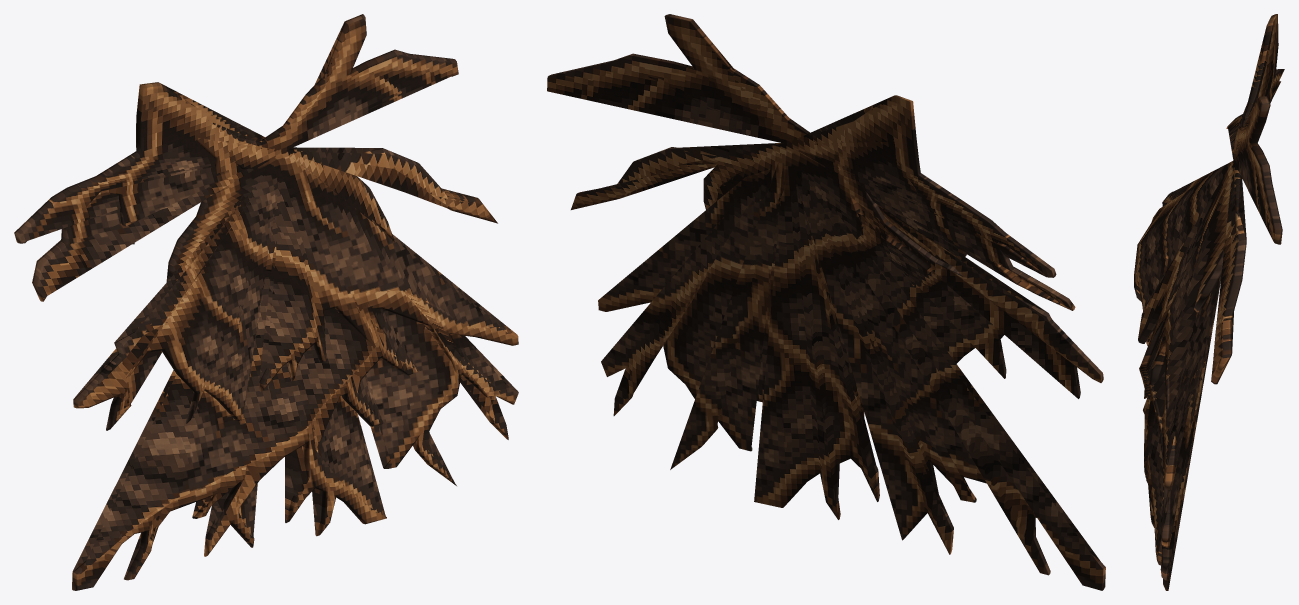
Rendered from Climbing_Root_02.fbx.
3 renders of one model, left to right at view 1: azimuth 30°, elevation 25°; view 2: azimuth 150°, elevation 25°; view 3: azimuth 270°, elevation 25°, orthographic. The views are drawn at different scales.
Parts seen in each view (by area): view 1: Raices_Trepadas_02; view 2: Raices_Trepadas_02; view 3: Raices_Trepadas_02.
Boxes of the visible parts, left/top/right/bottom form: Raices_Trepadas_02: left=14, top=14, right=518, bottom=590; Raices_Trepadas_02: left=547, top=14, right=1105, bottom=590; Raices_Trepadas_02: left=1134, top=14, right=1284, bottom=590.
Size of the model in its own units: 200 by 194 by 55.72.
